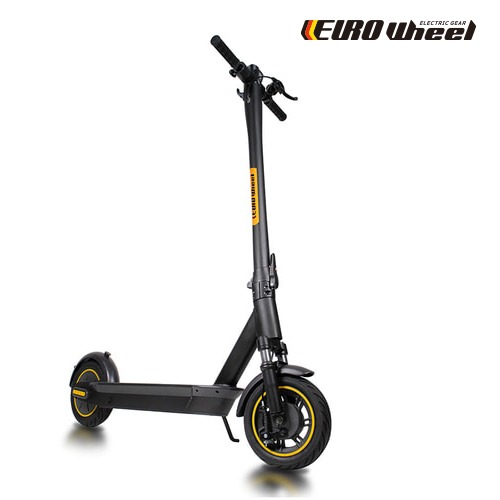kick_board: (68, 33, 334, 467)
kick_body: (100, 381, 236, 416)
kick_handler: (209, 35, 286, 119)
kick_neck: (235, 90, 287, 366)
kick_wheel: (236, 364, 331, 471), (69, 351, 115, 427)
